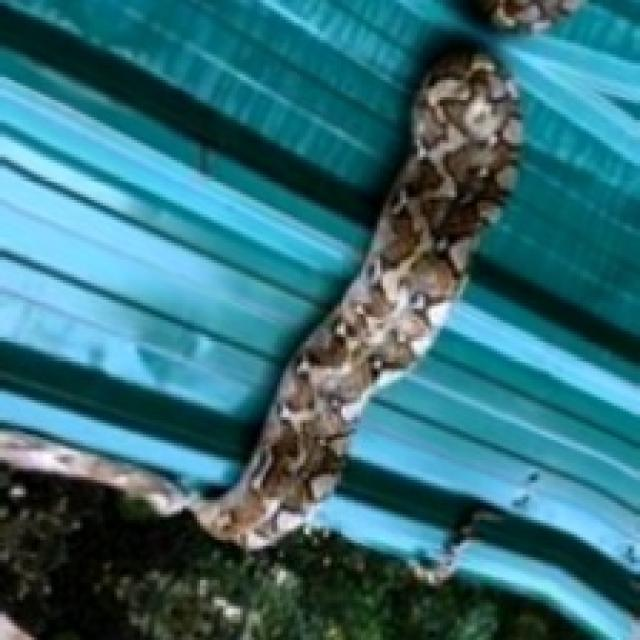reticulated python: (200, 52, 518, 547)
